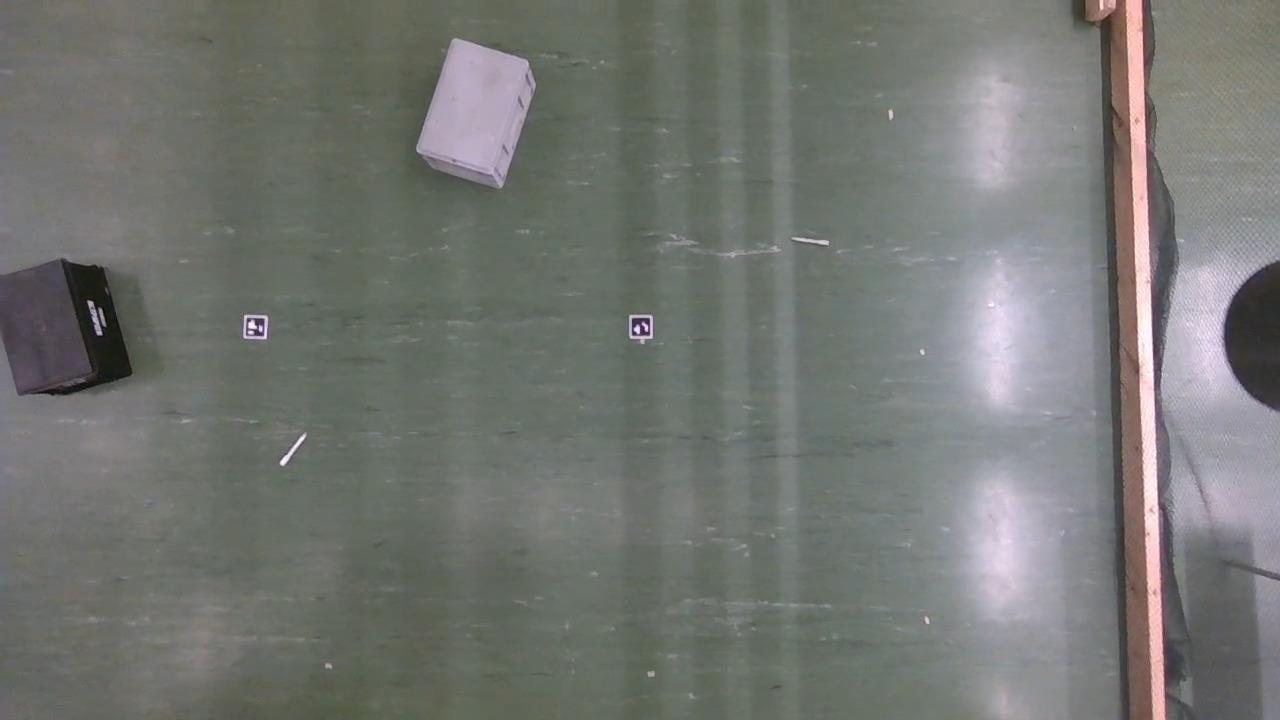probes: (279, 432, 305, 466), (790, 236, 828, 246)
rako: (0, 258, 134, 397), (415, 39, 537, 190)
